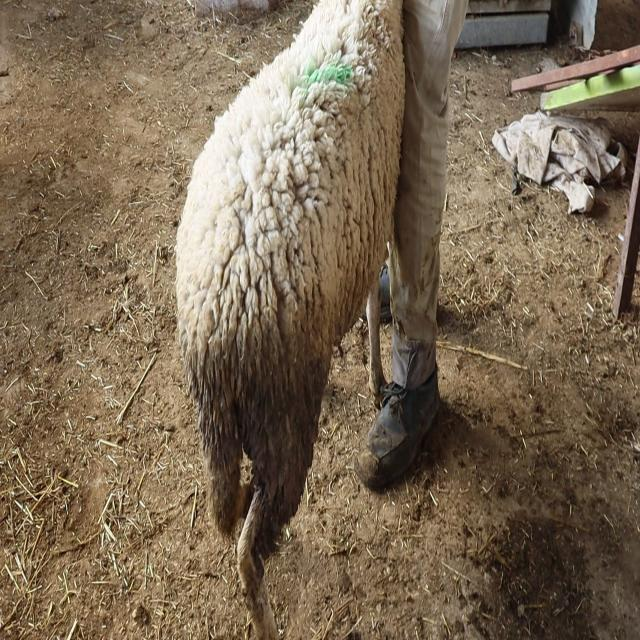Score_3: (176, 0, 405, 639)
